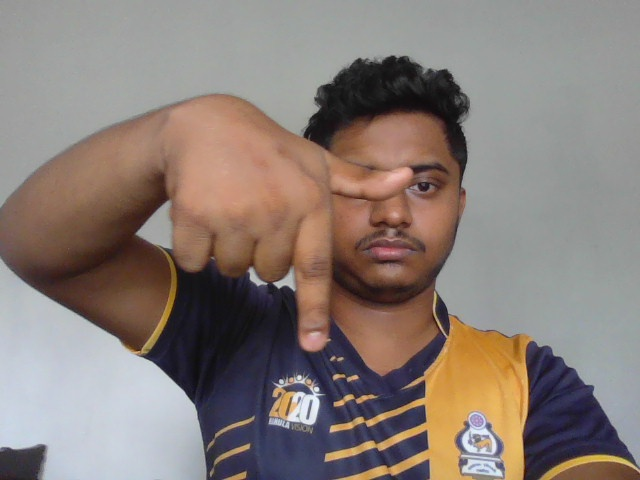Later: (164, 141, 415, 353)
